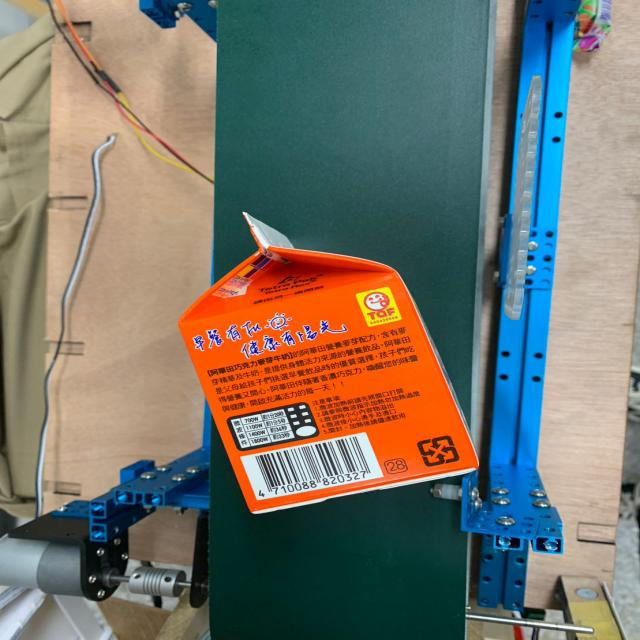non_white_jug: (151, 205, 519, 532)
